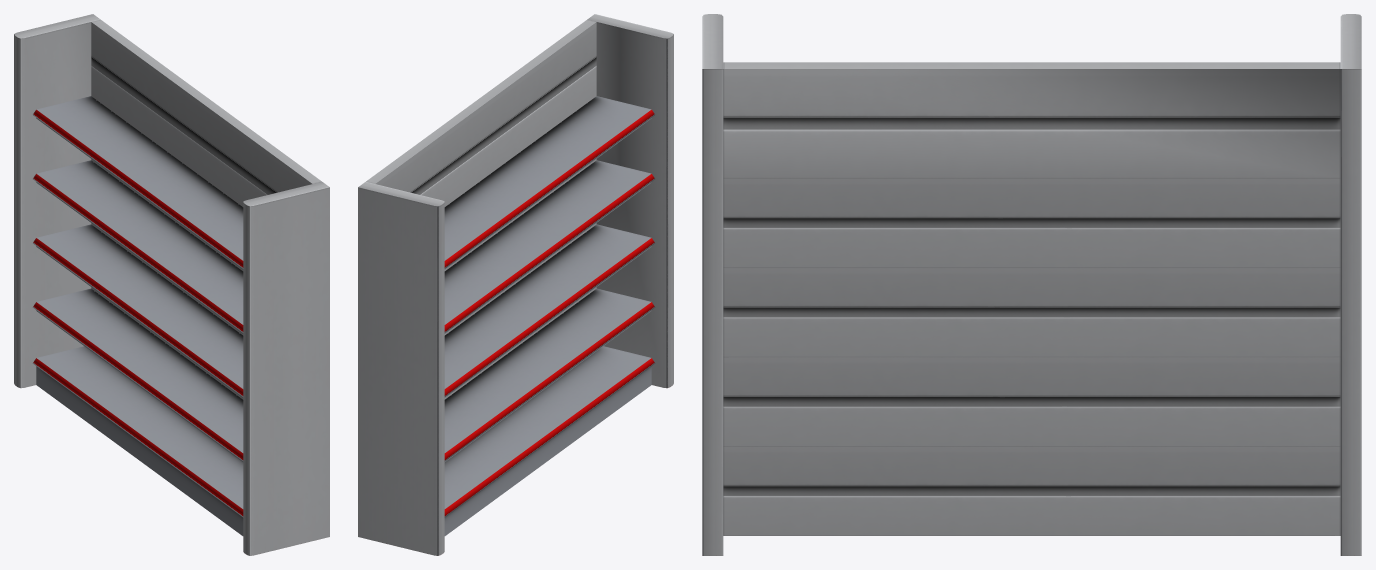
File: sp_rack_6.FBX
3 renders of one model, left to right at view 1: azimuth 30°, elevation 25°; view 2: azimuth 150°, elevation 25°; view 3: azimuth 270°, elevation 25°, orthographic. The views are drawn at different scales.
Visible parts, largest first — view 1: sp_rack_6; view 2: sp_rack_6; view 3: sp_rack_6.
Part boxes in pixels (<box>): sp_rack_6: <box>14,14,329,555</box>; sp_rack_6: <box>358,14,673,555</box>; sp_rack_6: <box>702,14,1361,555</box>.
Bounding box in the file's own units: 20.93 × 106 × 86.61.
